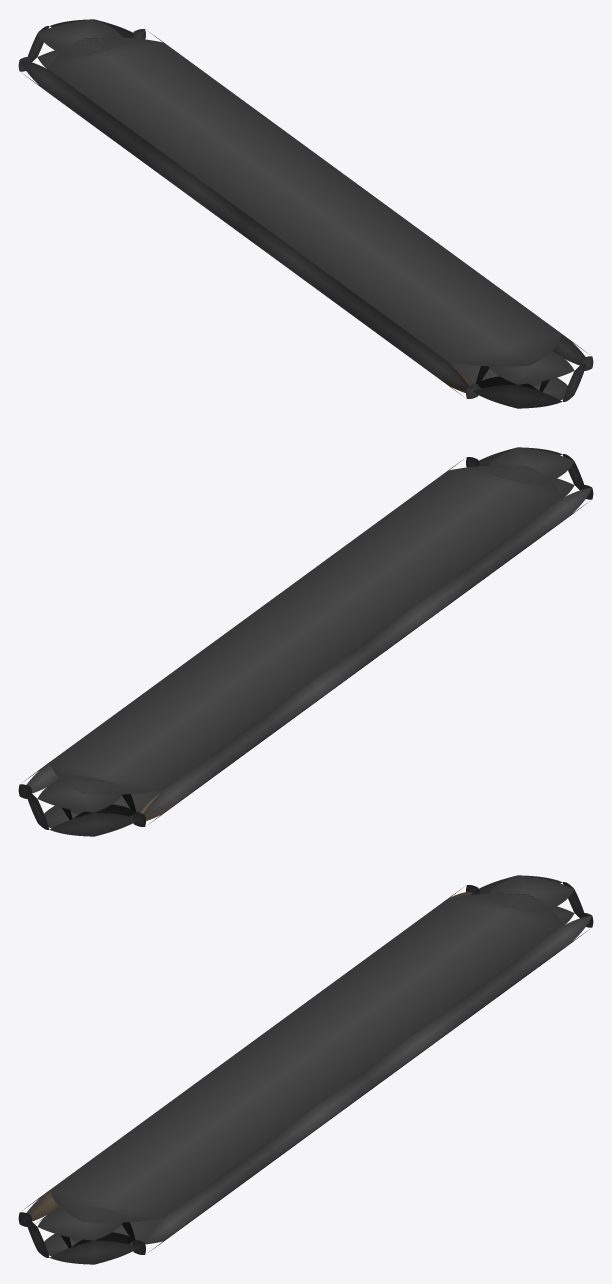
Rendered from udp_9_grip_rail_cover.fbx.
The picture shows the model from 3 angles, top to bottom: view 1: azimuth 30°, elevation 25°; view 2: azimuth 150°, elevation 25°; view 3: azimuth 330°, elevation 25°; orthographic projection.
Parts seen in each view (by area): view 1: cube, cube_1, cube_6, cube_5, cube_4, cube_3; view 2: cube, cube_1, cube_5, cube_6, cube_4, cube_2; view 3: cube, cube_4, cube_6, cube_5, cube_3.
Part boxes in pixels (x1,y1,x2,y2): cube: [50, 37, 561, 391]; cube_1: [18, 56, 479, 398]; cube_6: [473, 347, 586, 408]; cube_5: [28, 19, 133, 69]; cube_4: [132, 29, 593, 370]; cube_3: [475, 366, 549, 391]; cube: [50, 465, 561, 819]; cube_1: [132, 484, 593, 826]; cube_5: [25, 775, 138, 836]; cube_6: [478, 447, 583, 497]; cube_4: [18, 457, 479, 798]; cube_2: [62, 794, 136, 819]; cube: [29, 892, 561, 1244]; cube_4: [132, 912, 593, 1254]; cube_6: [25, 1203, 138, 1264]; cube_5: [478, 875, 583, 925]; cube_3: [61, 1222, 135, 1247].
Size of the model in its own units: 4.69 by 0.9766 by 30.47.
1 material, 1 textured.
